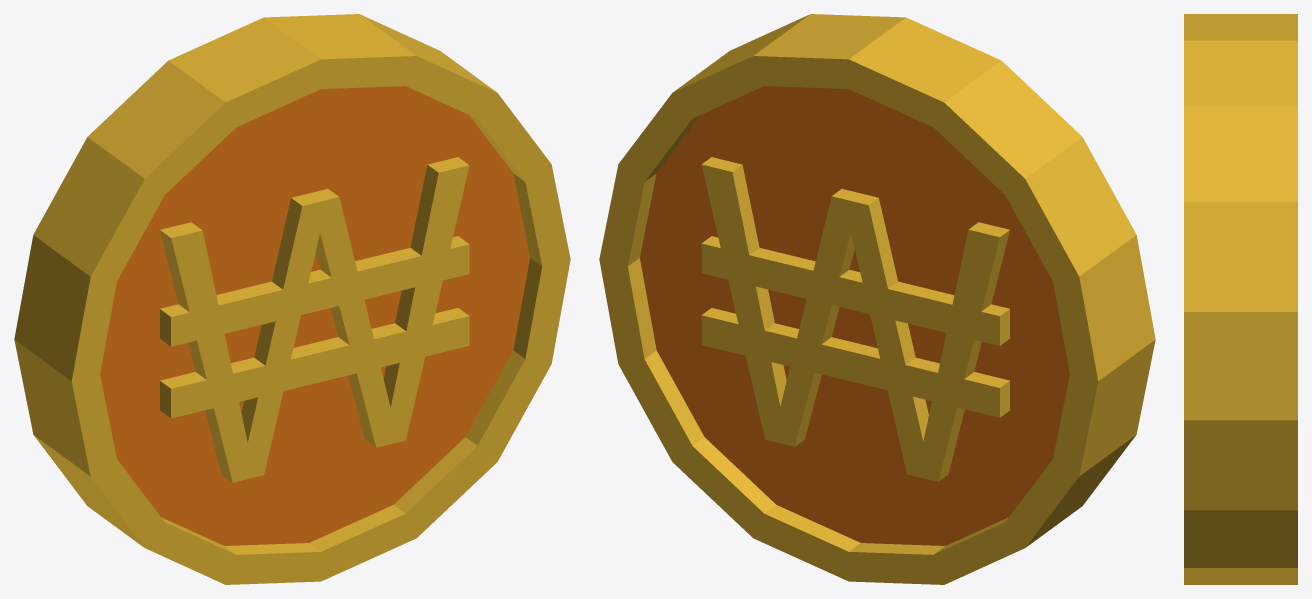
The model's file is Won.fbx.
3 renders of one model, left to right at view 1: azimuth 30°, elevation 25°; view 2: azimuth 150°, elevation 25°; view 3: azimuth 270°, elevation 25°, orthographic.
Parts seen in each view (by area): view 1: Won; view 2: Won; view 3: Won.
Boxes of the visible parts, <box> form: Won: <box>14,14,570,584</box>; Won: <box>599,14,1155,584</box>; Won: <box>1184,14,1297,584</box>.
Size of the model in its own units: 84.1 by 84.1 by 16.74.
